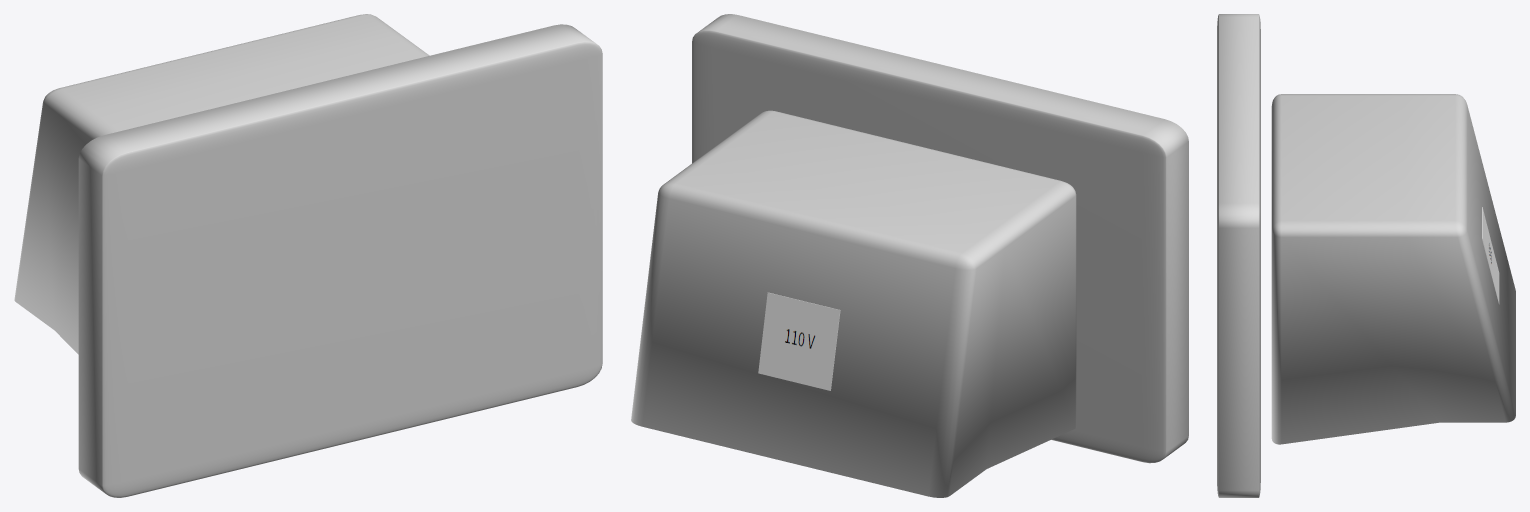
The model's file is 生物安全櫃插座.fbx.
The picture shows the model from 3 angles, left to right: view 1: azimuth 30°, elevation 25°; view 2: azimuth 150°, elevation 25°; view 3: azimuth 270°, elevation 25°; orthographic projection. The views are drawn at different scales.
Visible parts, largest first — view 1: 插座; view 2: 插座, 插座貼紙; view 3: 插座, 插座貼紙.
Boxes of the visible parts, bbox=[...] form: 插座: bbox=[14, 14, 602, 497]; 插座: bbox=[631, 14, 1188, 497]; 插座貼紙: bbox=[758, 292, 840, 390]; 插座: bbox=[1217, 14, 1515, 497]; 插座貼紙: bbox=[1482, 207, 1499, 304].
Bounding box in the file's own units: 20.46 × 13.46 × 12.51.
Materials: 1 (1 with a texture image).
